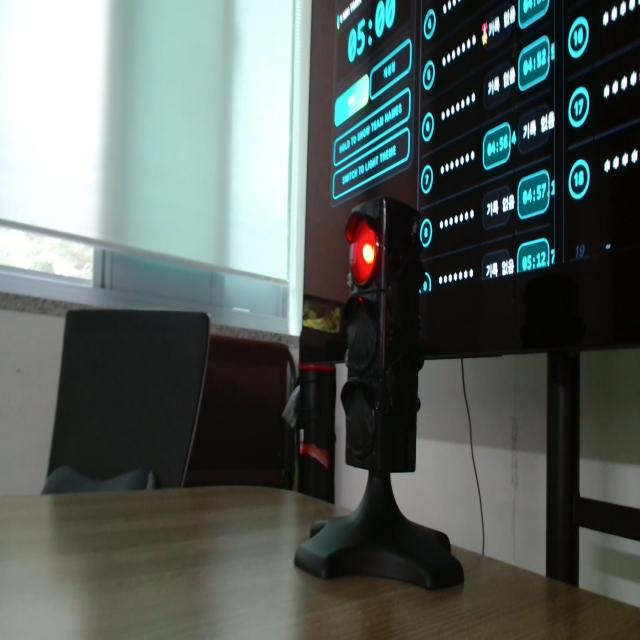red_light: (350, 219, 377, 285), (362, 243, 375, 264)
